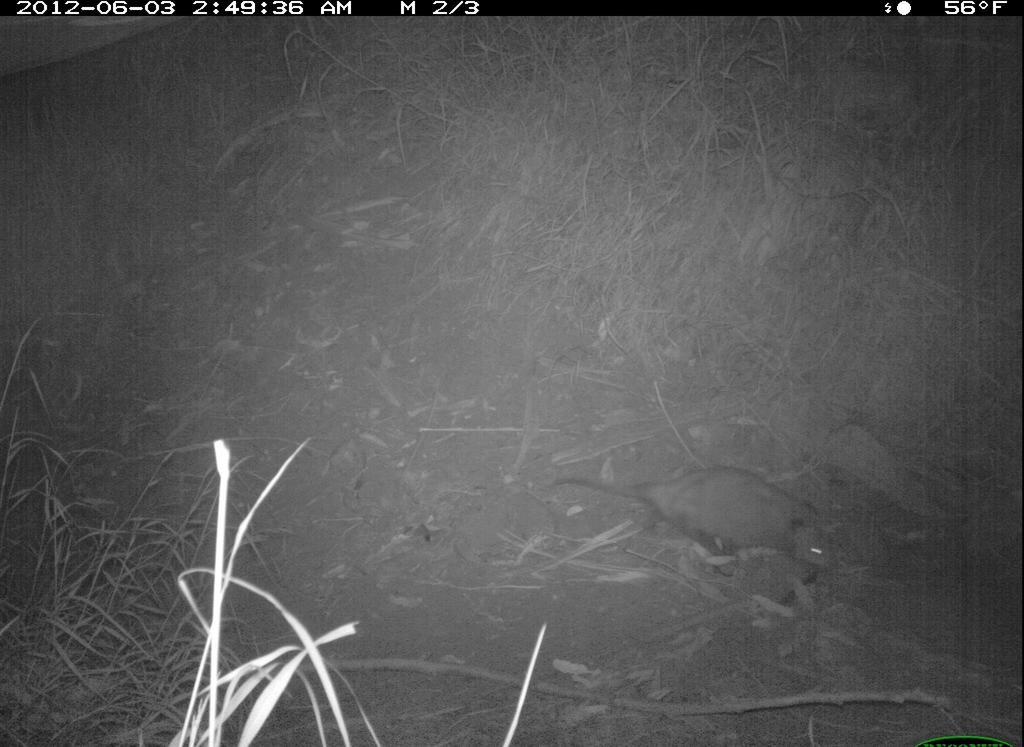opossum: (545, 454, 845, 596)
